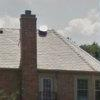Chimney: (15, 6, 43, 97)
